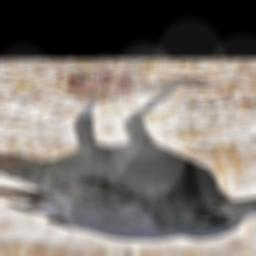Crow: (0, 77, 256, 241)
